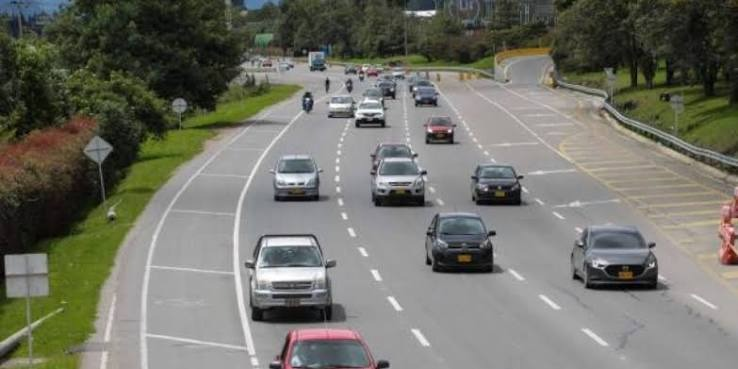car: (38, 32, 738, 367), (236, 33, 679, 220), (115, 28, 521, 206), (223, 37, 552, 172), (178, 44, 530, 132), (1, 117, 106, 245), (244, 234, 335, 324), (571, 225, 660, 287), (272, 326, 380, 369), (423, 214, 499, 273), (370, 156, 426, 204), (370, 147, 422, 190), (271, 155, 320, 200), (374, 170, 430, 207), (469, 164, 521, 203), (418, 112, 456, 144)
